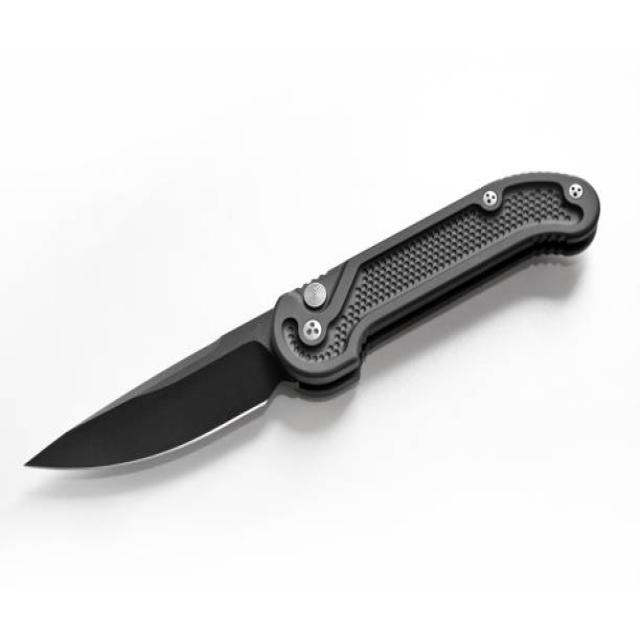knife: (23, 162, 607, 489)
